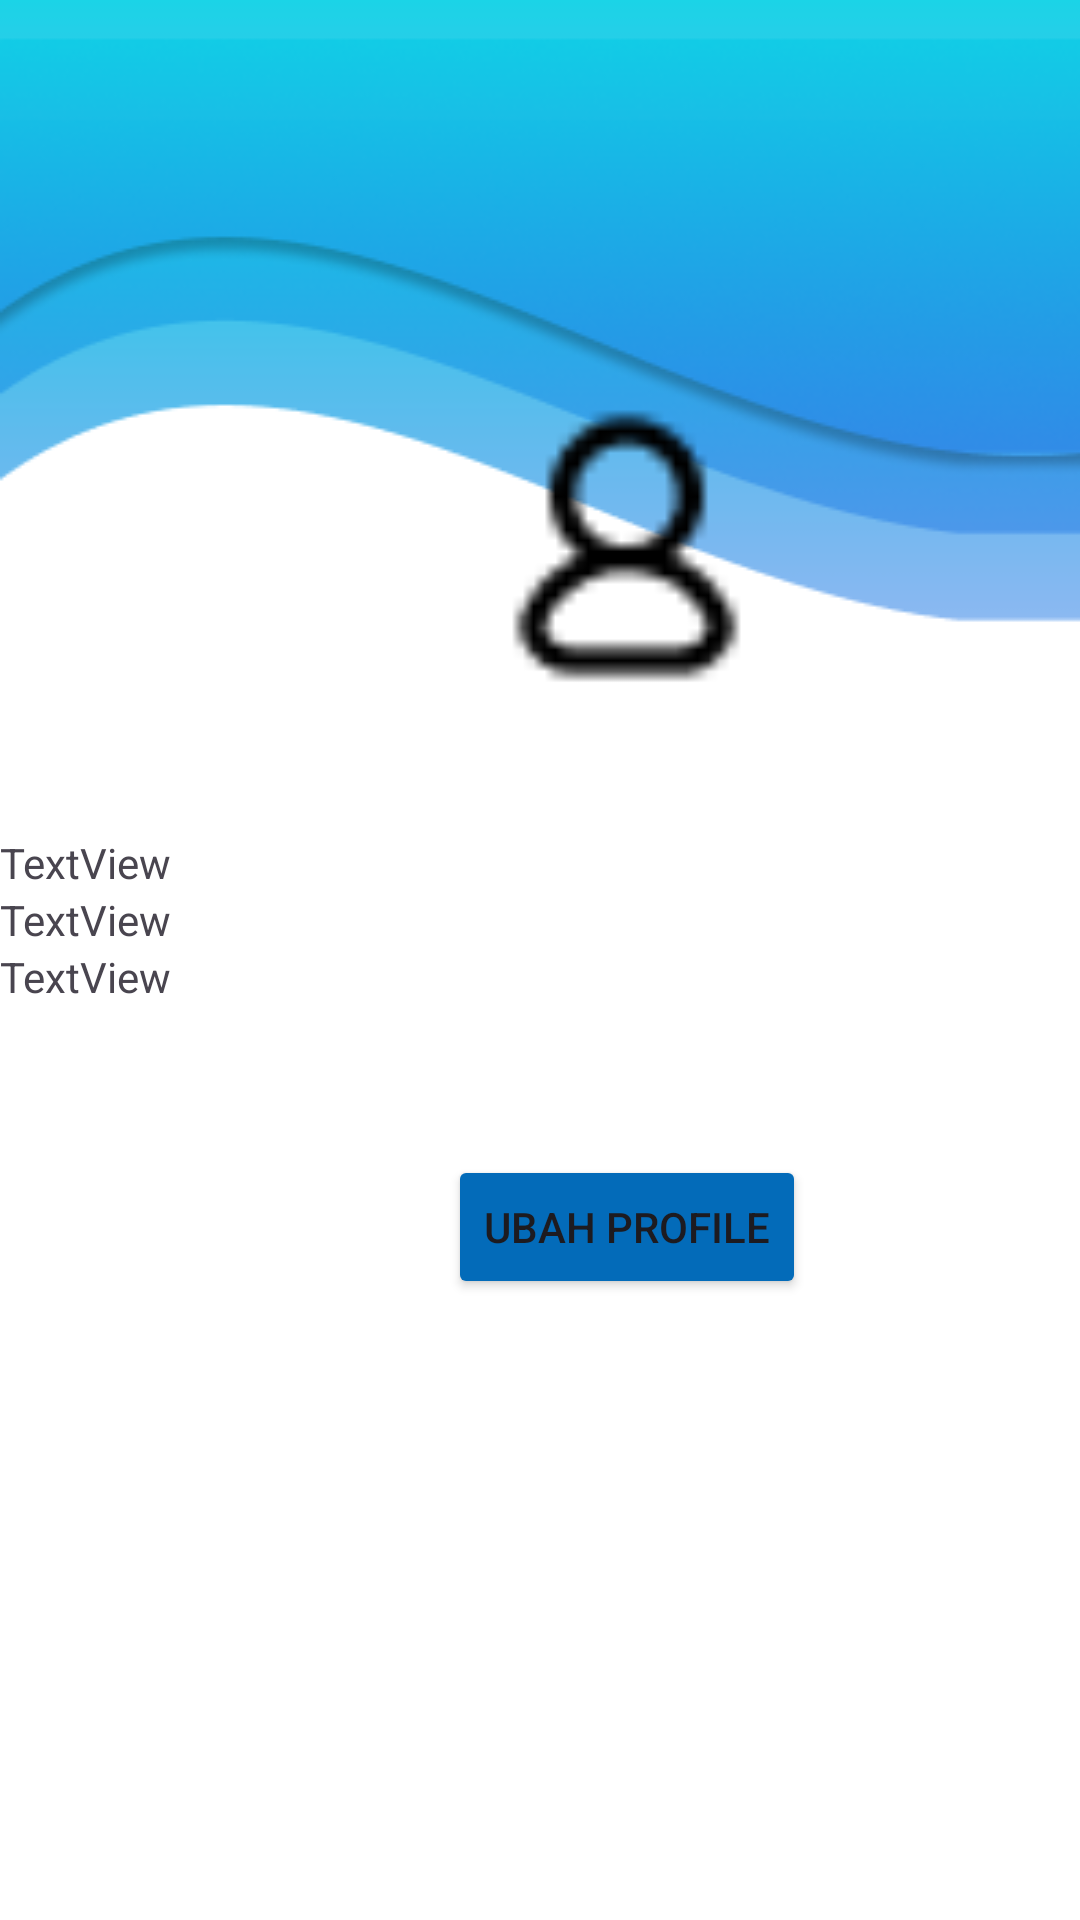

Icon click points for this 1080px×1920px phone screenshot, format (x,y):
user: (626,546)
